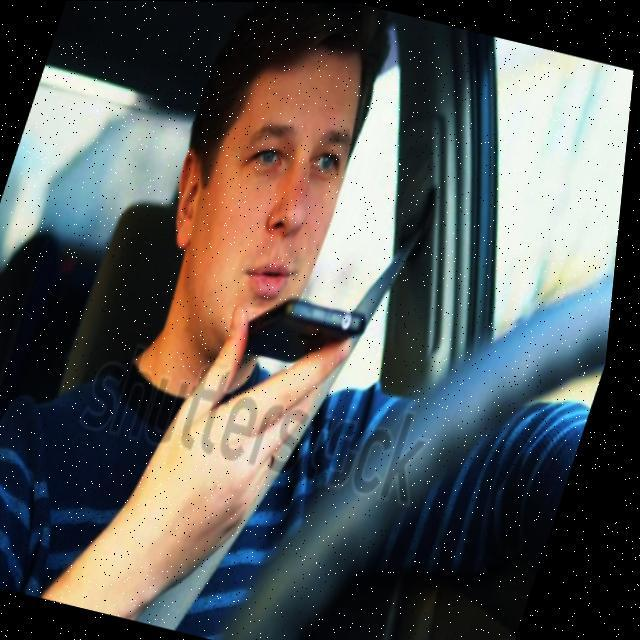PhoneCall: (236, 285, 378, 375)
